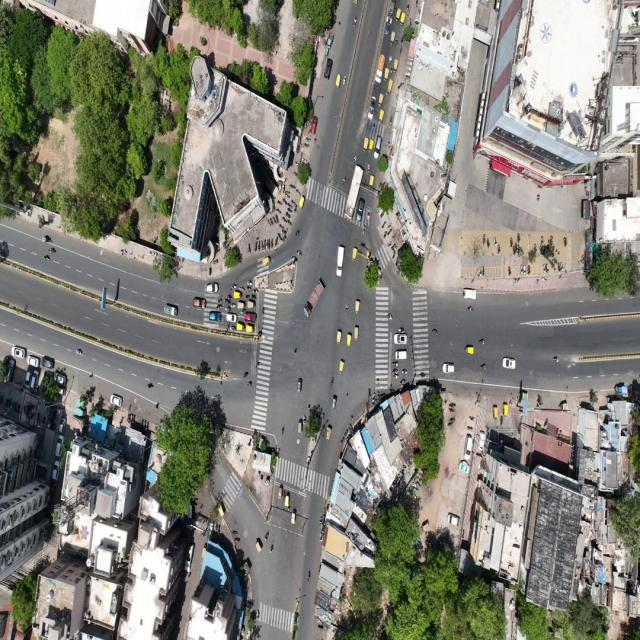3W: (325, 422, 333, 445), (337, 358, 346, 376), (330, 391, 337, 414), (261, 254, 274, 266), (353, 297, 361, 316), (296, 376, 303, 396), (254, 537, 262, 554), (353, 324, 360, 343), (346, 332, 353, 351), (276, 481, 282, 503), (464, 343, 474, 356), (491, 404, 499, 420), (336, 326, 343, 344), (218, 502, 225, 518), (296, 418, 303, 434), (503, 403, 510, 419), (363, 133, 368, 155), (369, 134, 374, 156), (292, 508, 298, 526), (335, 72, 341, 90), (378, 109, 384, 126), (232, 290, 242, 300), (236, 321, 245, 332), (395, 8, 401, 24), (390, 31, 396, 47), (368, 174, 374, 190), (247, 323, 256, 333), (246, 300, 255, 310), (401, 10, 406, 28), (387, 80, 393, 95), (393, 59, 399, 73), (378, 93, 384, 107), (285, 492, 290, 508), (384, 66, 389, 82), (236, 302, 245, 310)
Cars: (334, 243, 347, 281), (462, 433, 476, 462), (51, 434, 67, 457), (323, 57, 334, 85), (8, 345, 26, 360), (367, 94, 377, 121), (462, 285, 478, 301), (446, 510, 461, 526), (56, 413, 68, 433), (109, 391, 123, 408), (162, 303, 179, 317), (374, 136, 384, 159), (50, 459, 61, 479), (190, 297, 208, 309), (309, 115, 320, 134), (393, 333, 409, 346), (21, 370, 31, 390), (502, 354, 514, 370), (442, 362, 456, 375), (40, 355, 54, 367), (206, 282, 220, 294), (357, 199, 364, 222), (31, 370, 39, 390), (26, 355, 40, 366), (394, 350, 409, 360), (54, 371, 65, 384), (209, 312, 222, 322), (245, 312, 258, 322), (226, 314, 238, 322)
M2W: (550, 350, 562, 366), (40, 231, 54, 244), (306, 566, 313, 584), (268, 543, 275, 558), (465, 303, 475, 313), (479, 360, 489, 370), (343, 302, 349, 318), (352, 13, 358, 28), (292, 345, 299, 357), (76, 346, 82, 360), (263, 528, 270, 540), (147, 379, 154, 390), (478, 336, 486, 345), (430, 326, 438, 335), (43, 253, 51, 262), (394, 36, 400, 48), (342, 74, 348, 86), (380, 218, 386, 229), (290, 256, 298, 264), (49, 247, 57, 255), (329, 376, 334, 388), (294, 229, 300, 239), (341, 174, 346, 186), (405, 0, 409, 15), (478, 264, 482, 278), (482, 264, 486, 278), (482, 232, 486, 246), (468, 414, 475, 422), (242, 370, 249, 378), (362, 179, 367, 190), (386, 310, 392, 319), (255, 359, 261, 368), (246, 380, 252, 389), (282, 228, 288, 237), (493, 235, 497, 248), (282, 489, 286, 502), (362, 226, 366, 239), (366, 162, 370, 175), (277, 231, 282, 241), (353, 154, 358, 164), (371, 121, 376, 131), (401, 368, 408, 375), (507, 264, 511, 276), (281, 424, 285, 436), (296, 249, 304, 255), (367, 210, 371, 222), (303, 411, 306, 426), (533, 243, 537, 254), (266, 219, 270, 230), (449, 401, 456, 407), (397, 327, 404, 333), (254, 240, 257, 254), (276, 208, 282, 215), (276, 199, 282, 206), (289, 183, 296, 189), (295, 189, 301, 196), (292, 170, 298, 177), (239, 285, 245, 292), (223, 306, 230, 312), (230, 324, 236, 331), (542, 263, 546, 273), (391, 361, 399, 366), (391, 368, 399, 373), (230, 284, 238, 289), (392, 250, 396, 260), (487, 236, 490, 249), (564, 235, 567, 248), (247, 242, 250, 255), (260, 239, 263, 252), (540, 234, 544, 243), (561, 260, 564, 272), (500, 414, 503, 426), (393, 374, 399, 380), (275, 236, 278, 248), (272, 216, 276, 225), (291, 200, 297, 206), (286, 212, 292, 218), (288, 219, 292, 228), (282, 216, 286, 225), (304, 142, 310, 148), (305, 136, 311, 142), (246, 279, 252, 285), (251, 294, 257, 300), (239, 310, 245, 316), (386, 222, 392, 228), (285, 193, 290, 200), (216, 298, 223, 303), (527, 264, 530, 275), (512, 246, 516, 254), (517, 232, 520, 242), (468, 425, 473, 431), (450, 416, 455, 422), (448, 422, 454, 427), (267, 239, 270, 249), (253, 288, 258, 294), (226, 294, 232, 299), (244, 294, 250, 299), (388, 240, 392, 247), (390, 53, 392, 67), (246, 286, 251, 291), (217, 305, 222, 310), (498, 244, 500, 256), (546, 262, 548, 274), (450, 408, 456, 412), (258, 240, 260, 252), (264, 239, 266, 251), (230, 304, 236, 308), (283, 198, 286, 206), (510, 234, 512, 245), (223, 300, 230, 303), (558, 261, 560, 271), (295, 161, 299, 166), (550, 234, 552, 243), (390, 68, 392, 77), (384, 231, 386, 239)
Truck: (299, 274, 329, 321), (344, 162, 362, 226), (373, 53, 386, 85)
